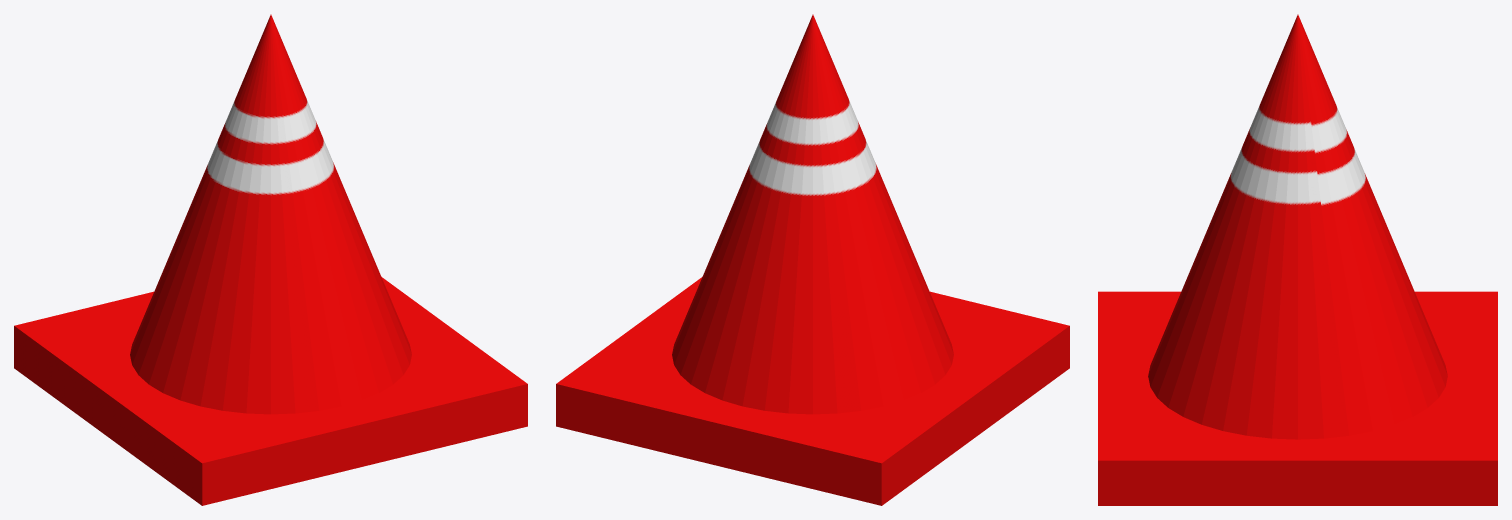
The picture shows the model from 3 angles, left to right: view 1: azimuth 30°, elevation 25°; view 2: azimuth 150°, elevation 25°; view 3: azimuth 270°, elevation 25°; orthographic projection. The views are drawn at different scales.
Parts seen in each view (by area): view 1: Sankaku_Cone; view 2: Sankaku_Cone; view 3: Sankaku_Cone.
Boxes of the visible parts, <box> form: Sankaku_Cone: <box>14,14,527,505</box>; Sankaku_Cone: <box>556,14,1069,505</box>; Sankaku_Cone: <box>1098,14,1497,505</box>.
Size of the model in its own units: 0.4 by 0.4 by 0.45.
Materials: 1 (1 with a texture image).
